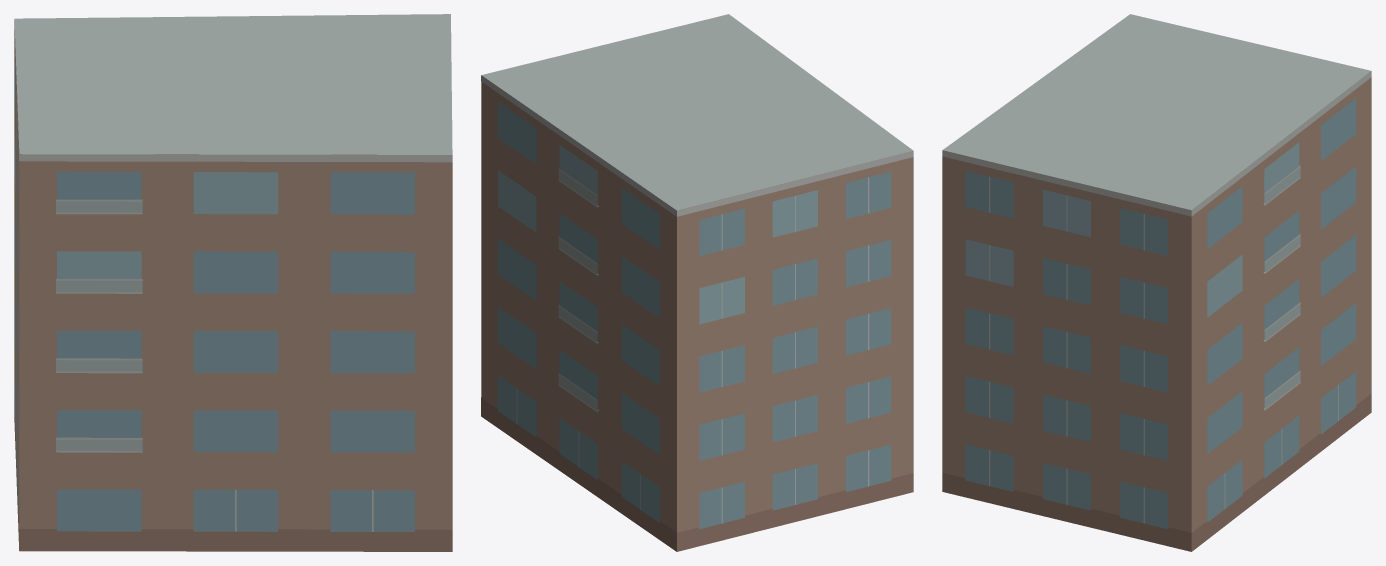
The model's file is survey-upis-32654509.glb.
3 views of the same model, side by side, from view 1: azimuth 30°, elevation 25°; view 2: azimuth 150°, elevation 25°; view 3: azimuth 270°, elevation 25° (orthographic). The views are drawn at different scales.
Parts seen in each view (by area): view 1: survey-upis-32654509.tmp; view 2: survey-upis-32654509.tmp; view 3: survey-upis-32654509.tmp.
Part boxes in pixels (x1=…): survey-upis-32654509.tmp: x1=14, y1=14, x2=452, y2=551; survey-upis-32654509.tmp: x1=481, y1=14, x2=913, y2=551; survey-upis-32654509.tmp: x1=942, y1=14, x2=1371, y2=551.
Size of the model in its own units: 16.39 by 13.3 by 15.15.
